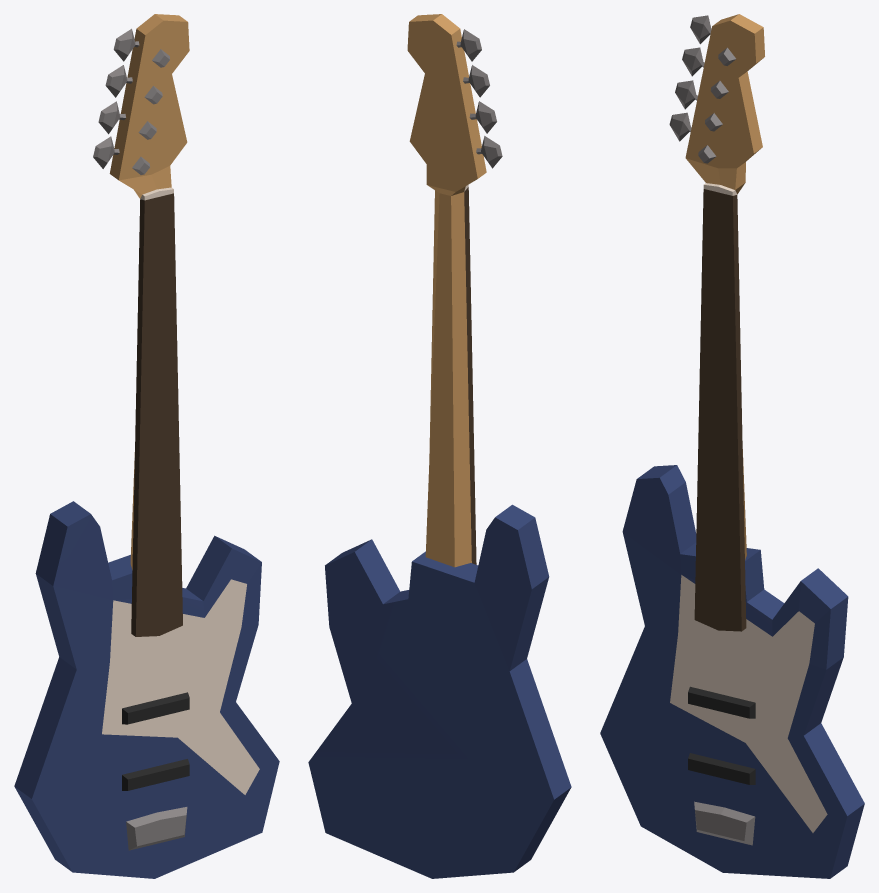
File: bass-guitar.glb
3 views of the same model, side by side, from view 1: azimuth 30°, elevation 25°; view 2: azimuth 150°, elevation 25°; view 3: azimuth 330°, elevation 25° (orthographic).
Visible parts, largest first — view 1: bass-guitar; view 2: bass-guitar; view 3: bass-guitar.
Part boxes in pixels (bbox=[...]): bass-guitar: bbox=[14, 14, 279, 878]; bass-guitar: bbox=[308, 14, 571, 878]; bass-guitar: bbox=[600, 14, 864, 878].
Size of the model in its own units: 0.3608 by 1.19 by 0.0572.
Materials: 1 (1 with a texture image).
